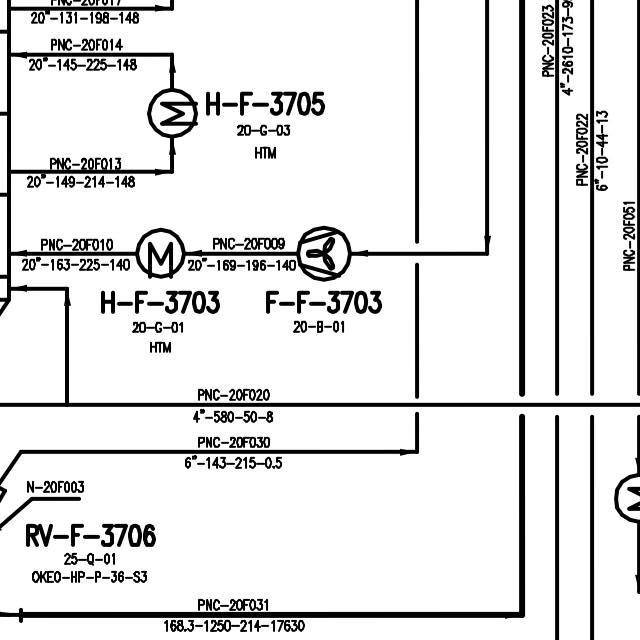F: (295, 224, 352, 282)
HE: (145, 83, 201, 142), (135, 225, 184, 278)
